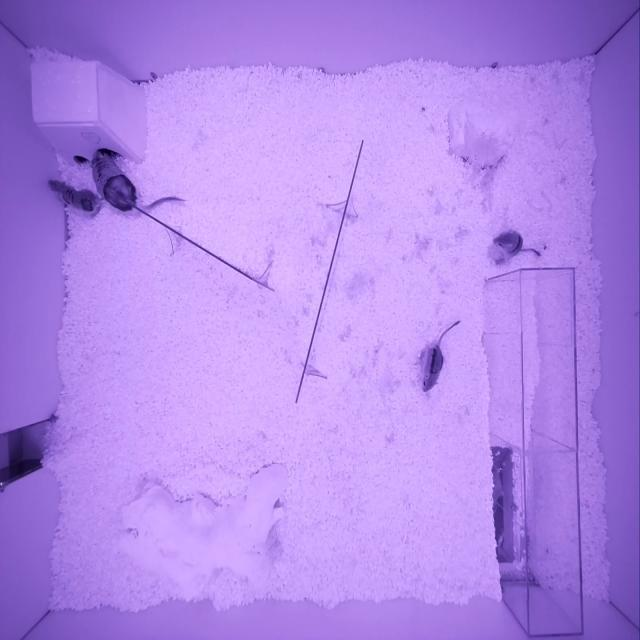adult_back: (92, 148, 142, 212)
pup_h_stripe: (494, 228, 524, 259)
pup_spotted: (48, 179, 101, 218)
pup_v_stripe: (422, 344, 443, 392)
